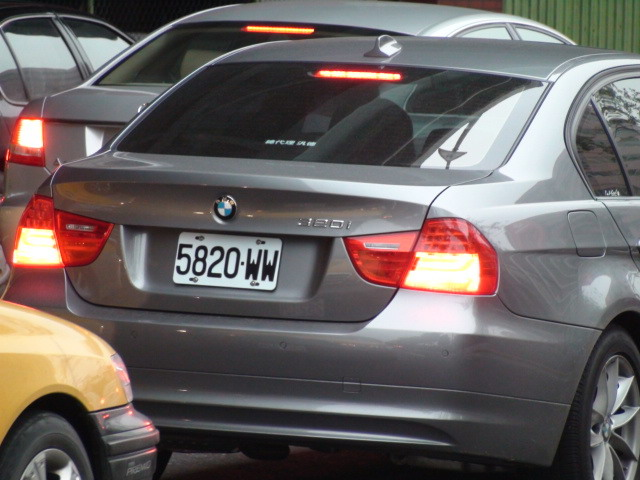plate: (170, 228, 284, 293)
